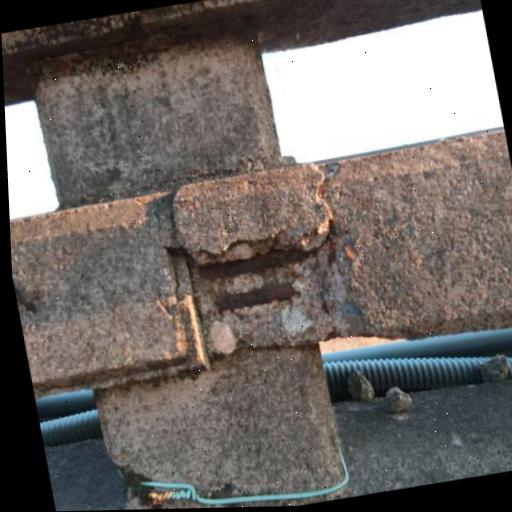exposed_rebar: (199, 247, 320, 282), (216, 283, 295, 312), (15, 286, 37, 314), (328, 241, 336, 267)
